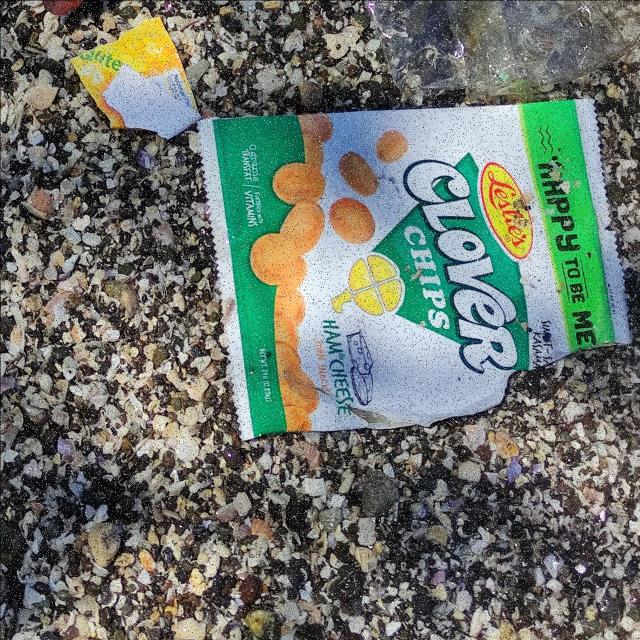plastic_waste: (195, 96, 637, 442), (70, 16, 203, 145)
